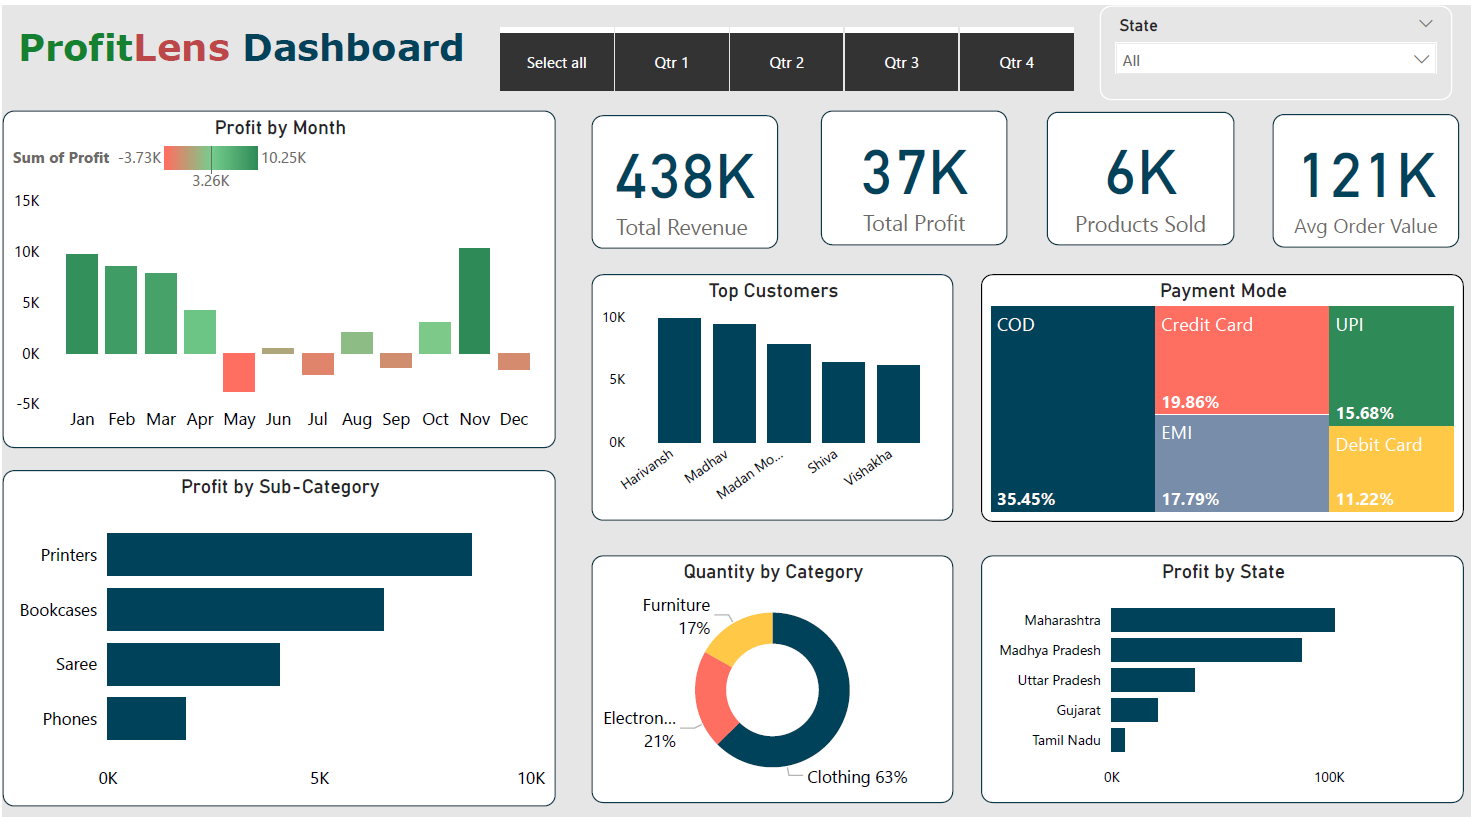

Layout of this report page (visuals, bound fields, positions):
{"tool":"powerbi","page":{"name":"Page 1","canvas":[1280,720],"ordinal":0},"visuals":[{"type":"textbox","box":[8,11.2,472,72],"z":0},{"type":"columnChart","title":"Profit by Month","fields":{"Y":["Details.Profit"],"Category":["Orders.MonthName"]},"box":[0,91.2,480,292.8],"z":1000},{"type":"barChart","title":"Profit by Sub-Category","fields":{"Category":["Details.Sub-Category"],"Y":["Details.Profit"]},"box":[0,403.2,480,292],"z":2000},{"type":"donutChart","title":"Quantity by Category","fields":{"Category":["Details.Category"],"Y":["Details.Quantity"]},"box":[511.4,477,313.7,214.9],"z":3000},{"type":"card","fields":{"Values":["Details.Profit"]},"box":[710.4,91.2,161.6,116.8],"z":4000},{"type":"card","fields":{"Values":["Details.Quantity"]},"box":[906.2,91.6,162.9,116.4],"z":5000},{"type":"card","fields":{"Values":["Details.AOV"]},"box":[1102.3,93.9,162,116.6],"z":6000},{"type":"barChart","title":"Profit by State","fields":{"Category":["Orders.State"],"Y":["Details.Amount"]},"box":[849.4,477,418.3,214.9],"z":7000},{"type":"columnChart","title":"Top Customers","fields":{"Category":["Orders.CustomerName"],"Y":["Details.Amount"]},"box":[511.4,233.5,313.7,213.4],"z":8000},{"type":"slicer","fields":{"Values":["Orders.Order Date.Variation.Date Hierarchy.Quarter"]},"box":[405.8,11.6,546.9,69.8],"z":9000},{"type":"slicer","fields":{"Values":["Orders.State"]},"box":[952,0,305.6,81.6],"z":10000},{"type":"treemap","title":"Payment Mode","fields":{"Group":["Details.PaymentMode"],"Values":["Details.Total Amount"]},"box":[849.5,232.7,418.9,215.3],"z":11000},{"type":"card","fields":{"Values":["Details.Amount"]},"box":[511.4,94.5,161.9,116],"z":12000}]}

Visuals, with their boxes in screenshot pixels (x1, y1, x2, y2), scaled from the page's 1280x720 canvas onto the 1471x817 screenshot:
textbox: bbox(9, 13, 552, 94)
"Profit by Month" columnChart: bbox(0, 103, 552, 436)
"Profit by Sub-Category" barChart: bbox(0, 458, 552, 789)
"Quantity by Category" donutChart: bbox(588, 541, 948, 785)
card - Details.Profit: bbox(816, 103, 1002, 236)
card - Details.Quantity: bbox(1041, 104, 1229, 236)
card - Details.AOV: bbox(1267, 107, 1453, 239)
"Profit by State" barChart: bbox(976, 541, 1457, 785)
"Top Customers" columnChart: bbox(588, 265, 948, 507)
slicer - Orders.Order Date.Variation.Date Hierarchy.Quarter: bbox(466, 13, 1095, 92)
slicer - Orders.State: bbox(1094, 0, 1445, 93)
"Payment Mode" treemap: bbox(976, 264, 1458, 508)
card - Details.Amount: bbox(588, 107, 774, 239)
